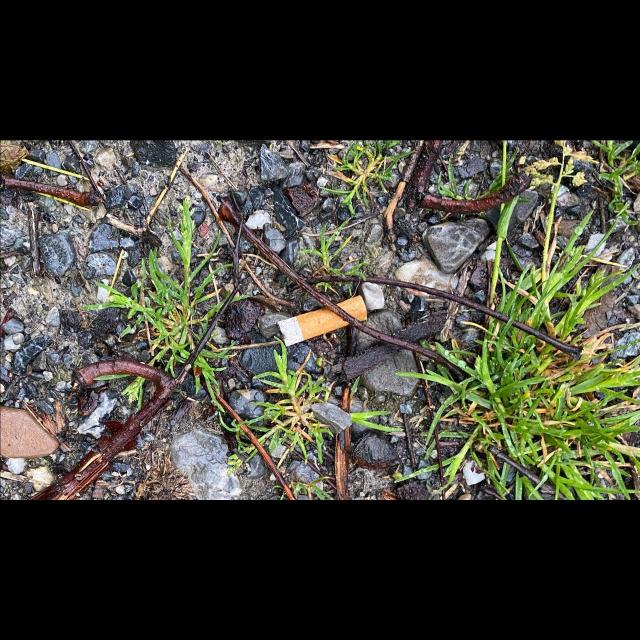cigarette: (276, 294, 367, 347)
